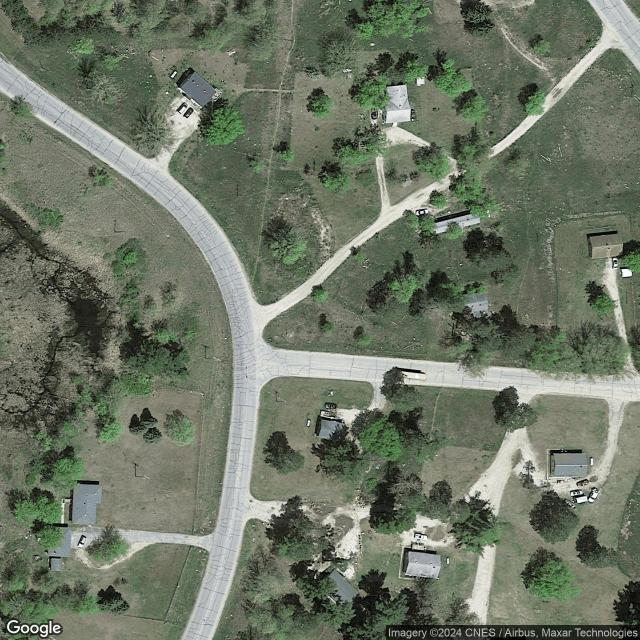Propane: (169, 69, 178, 78), (589, 456, 594, 466), (306, 419, 311, 427), (446, 556, 450, 565)
